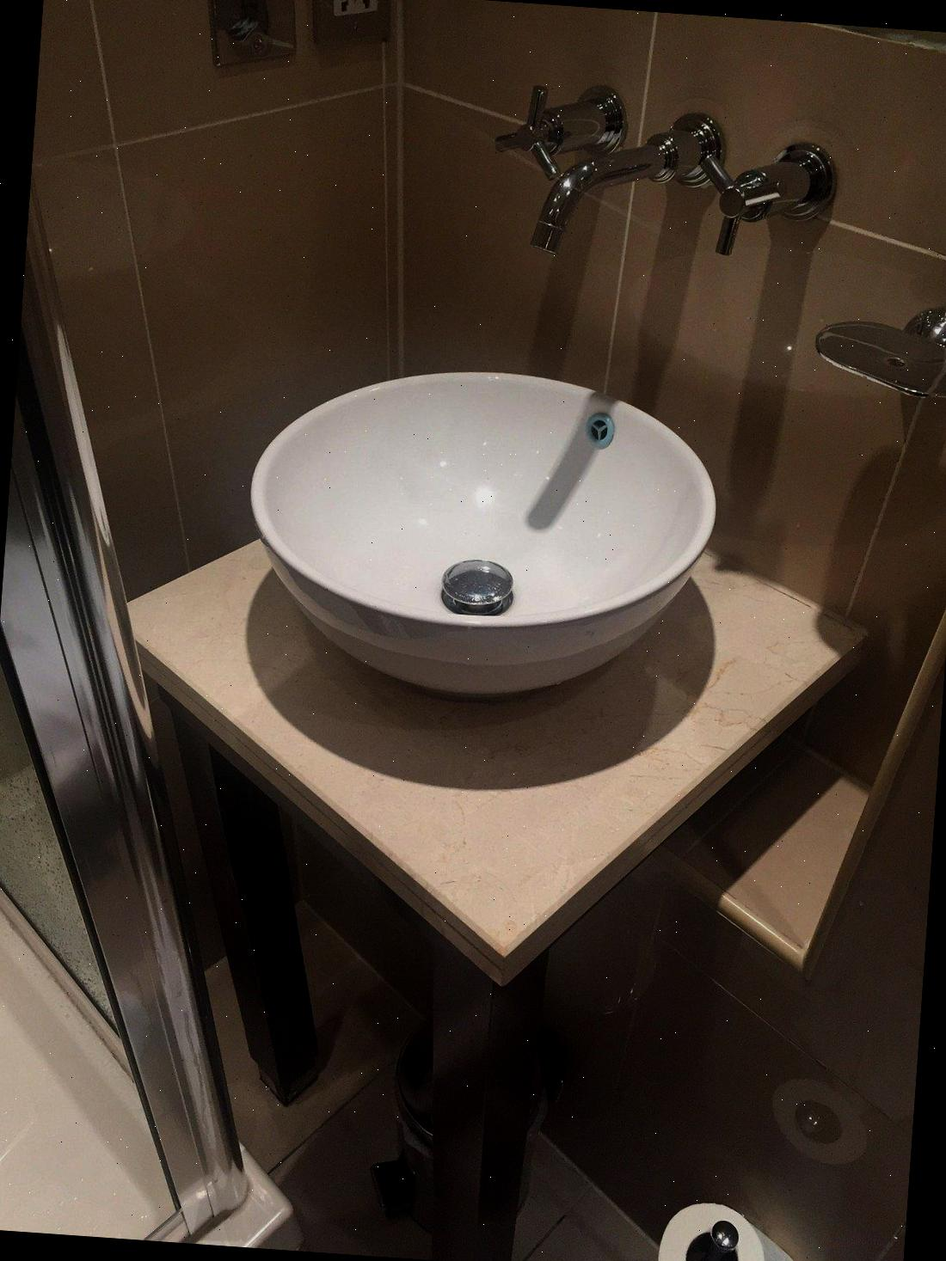clean_sink: (213, 52, 841, 725)
